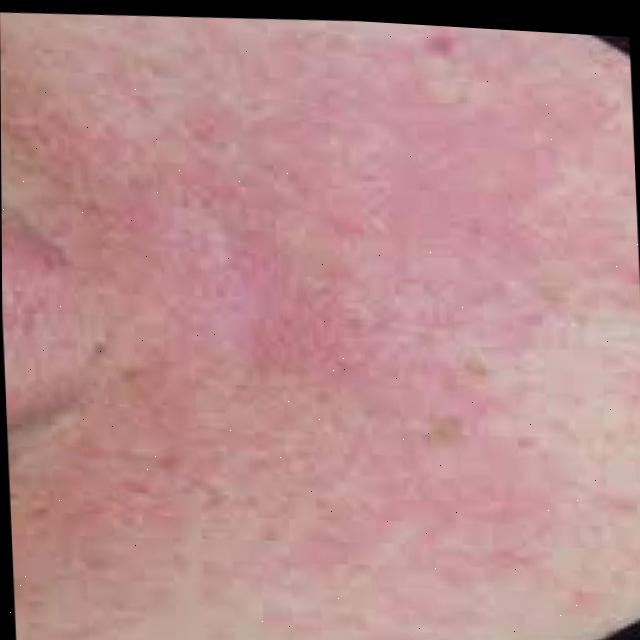Rosacea: (18, 1, 640, 640)
